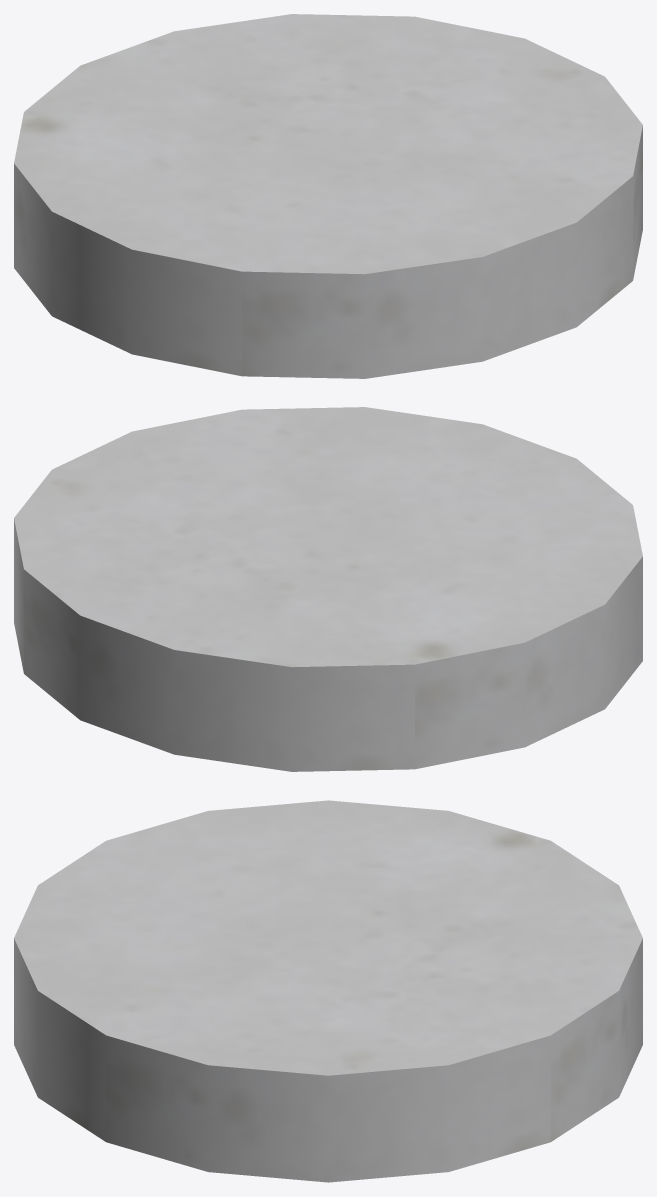
Rendered from SM_反应釜垫片02.FBX.
The picture shows the model from 3 angles, top to bottom: view 1: azimuth 30°, elevation 25°; view 2: azimuth 150°, elevation 25°; view 3: azimuth 270°, elevation 25°; orthographic projection. The views are drawn at different scales.
Visible parts, largest first — view 1: SM_反应釜垫片02; view 2: SM_反应釜垫片02; view 3: SM_反应釜垫片02.
Part boxes in pixels (x1,y1,x2,y2): SM_反应釜垫片02: [14, 14, 642, 378]; SM_反应釜垫片02: [14, 407, 642, 771]; SM_反应釜垫片02: [14, 800, 642, 1182].
Bounding box in the file's own units: 80.11 × 14.5 × 77.34.
